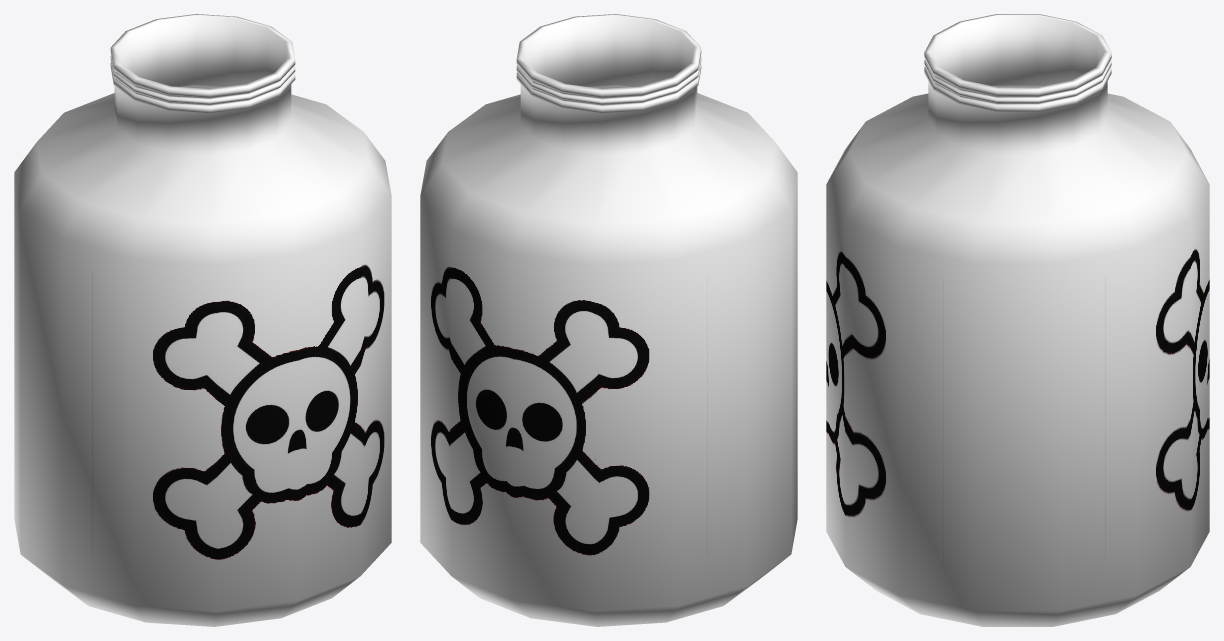
The model's file is Banka.fbx.
3 views of the same model, side by side, from view 1: azimuth 30°, elevation 25°; view 2: azimuth 150°, elevation 25°; view 3: azimuth 270°, elevation 25° (orthographic).
Visible parts, largest first — view 1: Banka; view 2: Banka; view 3: Banka.
Boxes of the visible parts, x1=… form: Banka: x1=14, y1=14, x2=391, y2=626; Banka: x1=420, y1=14, x2=797, y2=626; Banka: x1=826, y1=14, x2=1209, y2=626.
Size of the model in its own units: 1.95 by 2.94 by 2.
Materials: 1 (1 with a texture image).
